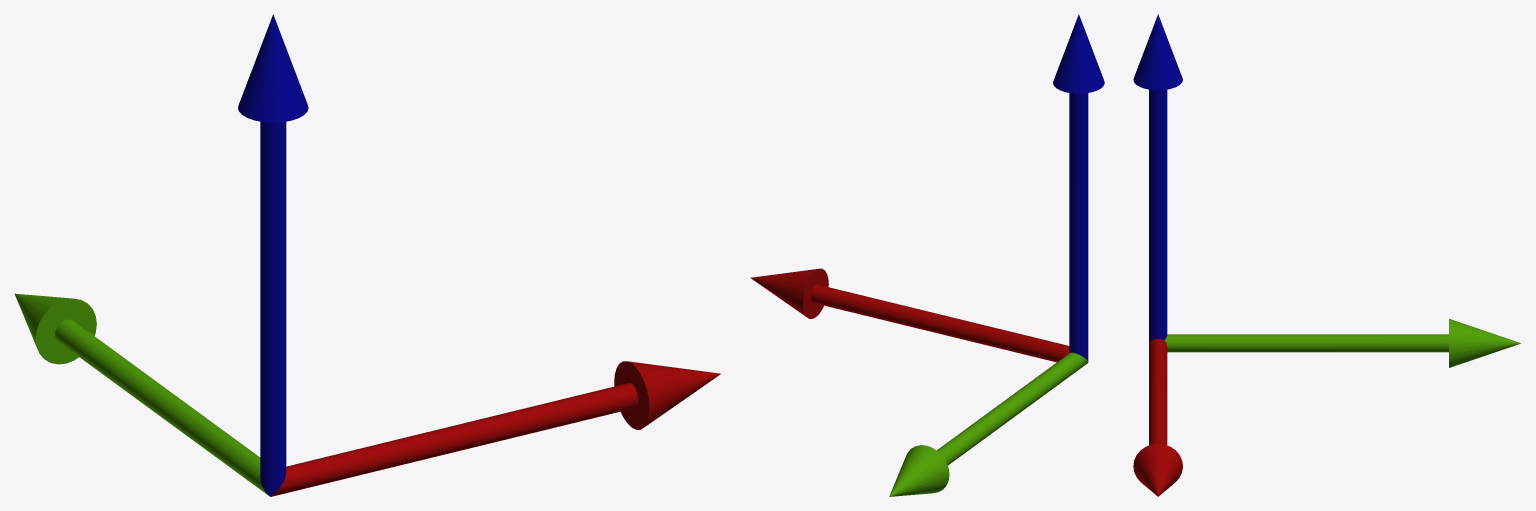
File: XYZ_axis_V02.glb
3 views of the same model, side by side, from view 1: azimuth 30°, elevation 25°; view 2: azimuth 150°, elevation 25°; view 3: azimuth 270°, elevation 25° (orthographic). The views are drawn at different scales.
Visible parts, largest first — view 1: Height, LAT, LON; view 2: Height, LAT, LON; view 3: LON, Height, LAT.
Boxes of the visible parts, bbox=[...] form: Height: bbox=[238, 14, 308, 496]; LAT: bbox=[270, 361, 720, 496]; LON: bbox=[14, 293, 268, 495]; Height: bbox=[1053, 14, 1104, 361]; LAT: bbox=[750, 268, 1069, 362]; LON: bbox=[889, 352, 1088, 496]; LON: bbox=[1164, 318, 1520, 367]; Height: bbox=[1133, 14, 1182, 342]; LAT: bbox=[1133, 339, 1182, 496].
Size of the model in its own units: 3.26 by 3.26 by 3.26.
